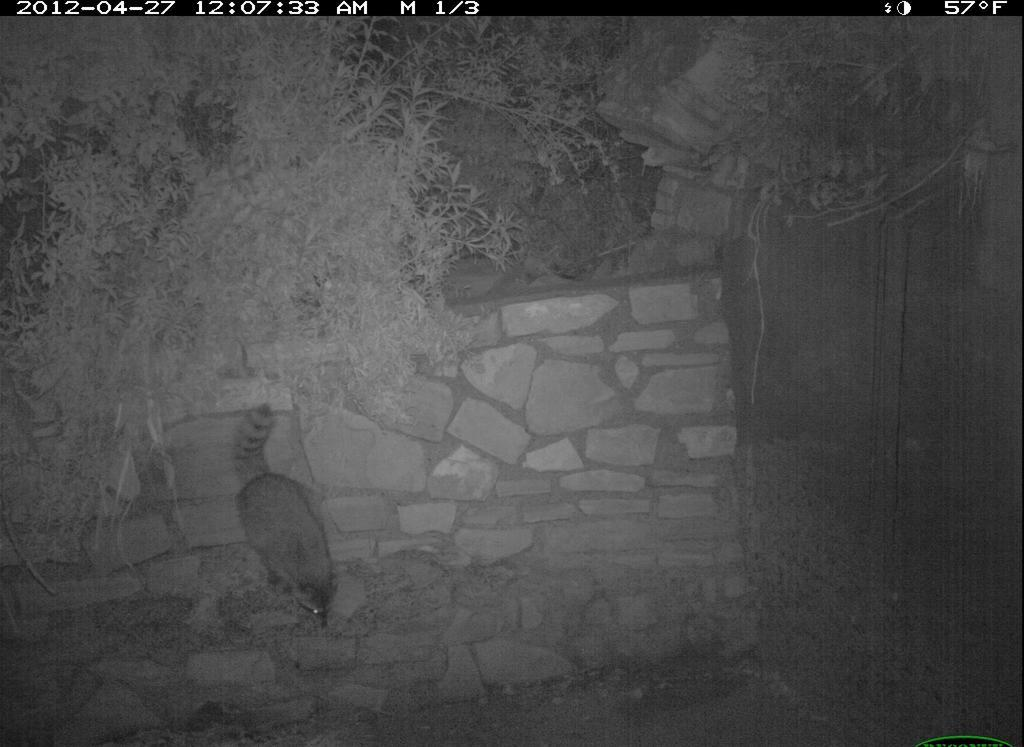raccoon: (216, 393, 353, 632)
